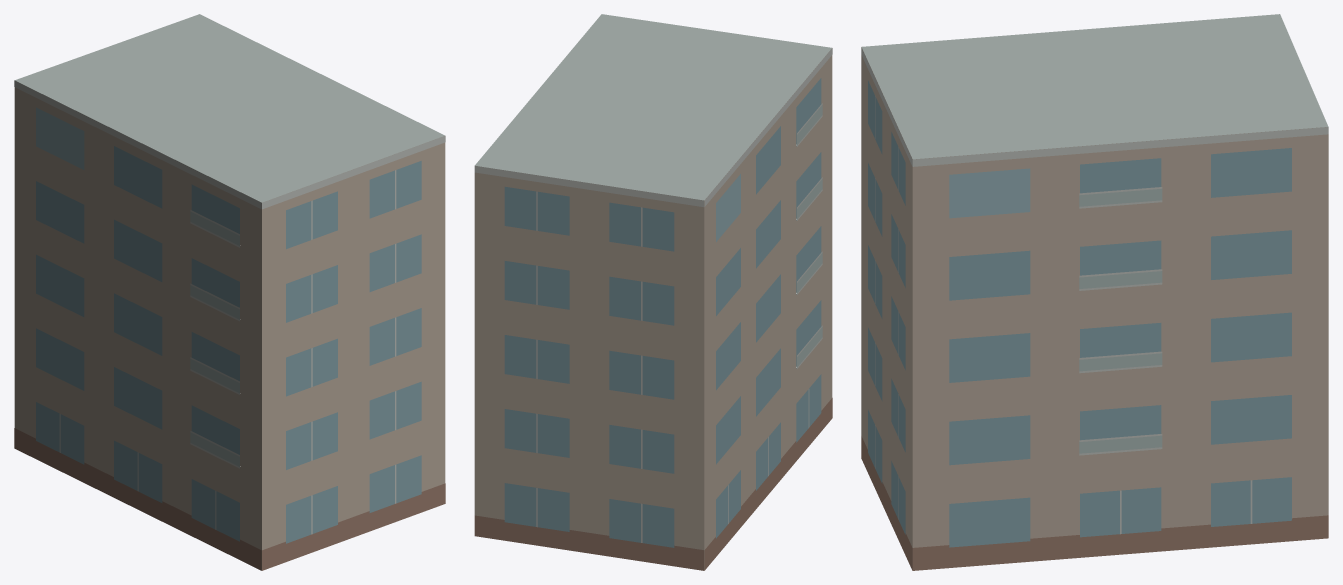
Rendered from survey-upis-33031500.glb.
3 renders of one model, left to right at view 1: azimuth 30°, elevation 25°; view 2: azimuth 150°, elevation 25°; view 3: azimuth 270°, elevation 25°, orthographic. The views are drawn at different scales.
Parts seen in each view (by area): view 1: survey-upis-33031500.tmp; view 2: survey-upis-33031500.tmp; view 3: survey-upis-33031500.tmp.
Boxes of the visible parts, x1=… form: survey-upis-33031500.tmp: x1=14, y1=14, x2=445, y2=570; survey-upis-33031500.tmp: x1=474, y1=14, x2=832, y2=570; survey-upis-33031500.tmp: x1=861, y1=14, x2=1328, y2=570.
Size of the model in its own units: 10.09 by 13.3 by 13.69.
